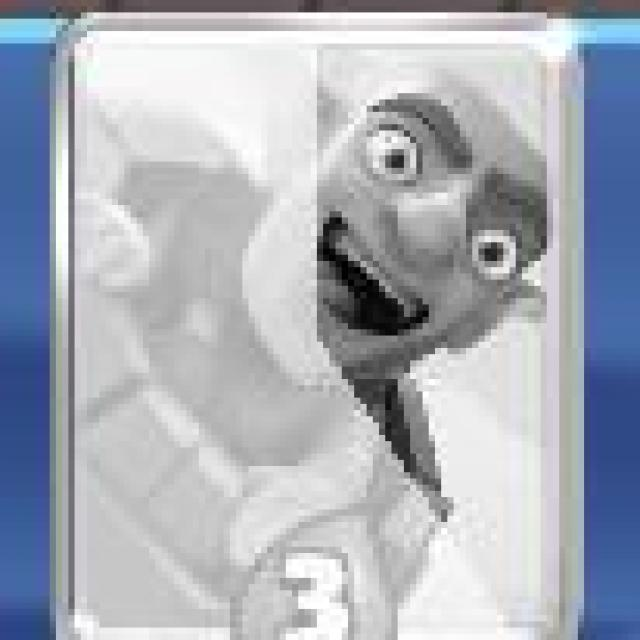Goblin_Barrel: (57, 15, 573, 640)
